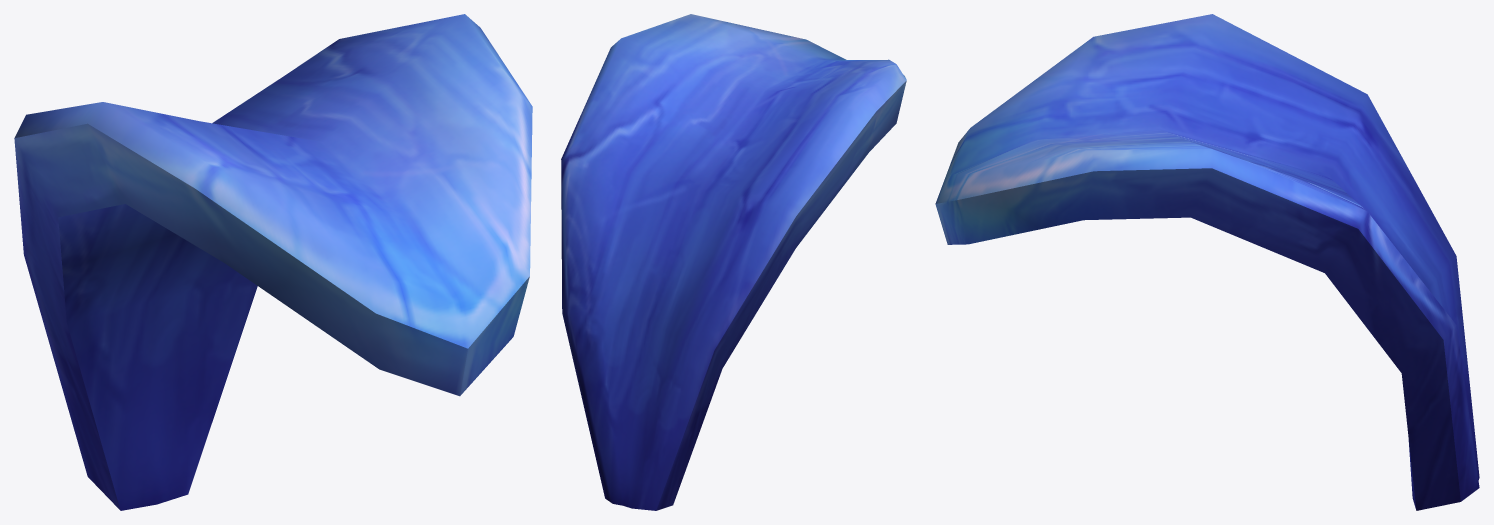
File: Avatar_tree_02.fbx
The picture shows the model from 3 angles, left to right: view 1: azimuth 30°, elevation 25°; view 2: azimuth 150°, elevation 25°; view 3: azimuth 270°, elevation 25°; orthographic projection. The views are drawn at different scales.
Parts seen in each view (by area): view 1: Avatar_tree_02; view 2: Avatar_tree_02; view 3: Avatar_tree_02.
Part boxes in pixels (x1,y1,x2,y2): Avatar_tree_02: (14,14,532,510); Avatar_tree_02: (561,14,906,510); Avatar_tree_02: (935,14,1479,510).
Size of the model in its own units: 179 by 237 by 281.
